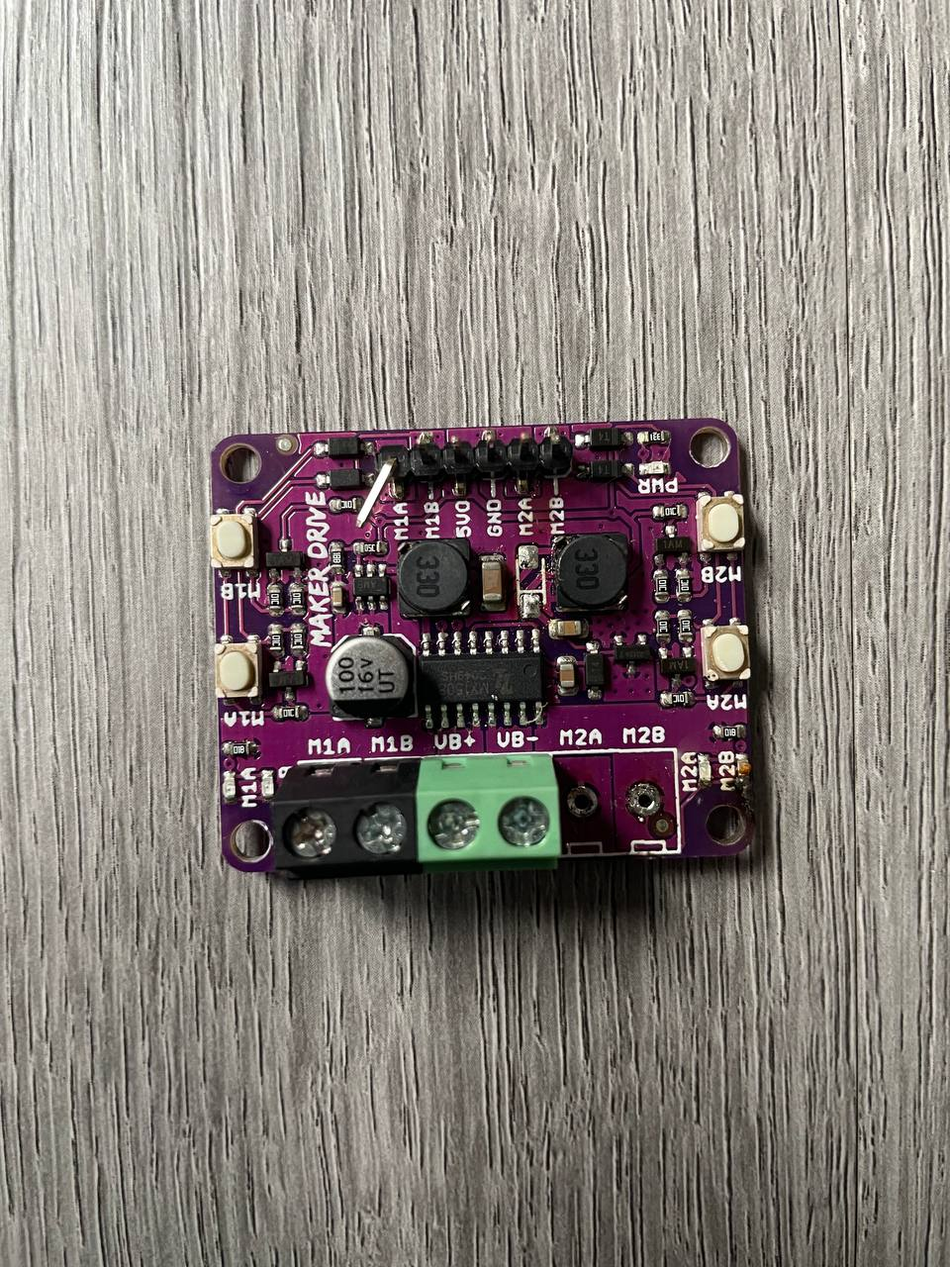bent_pin: (345, 448, 404, 536)
missing_tb: (552, 726, 682, 855)
